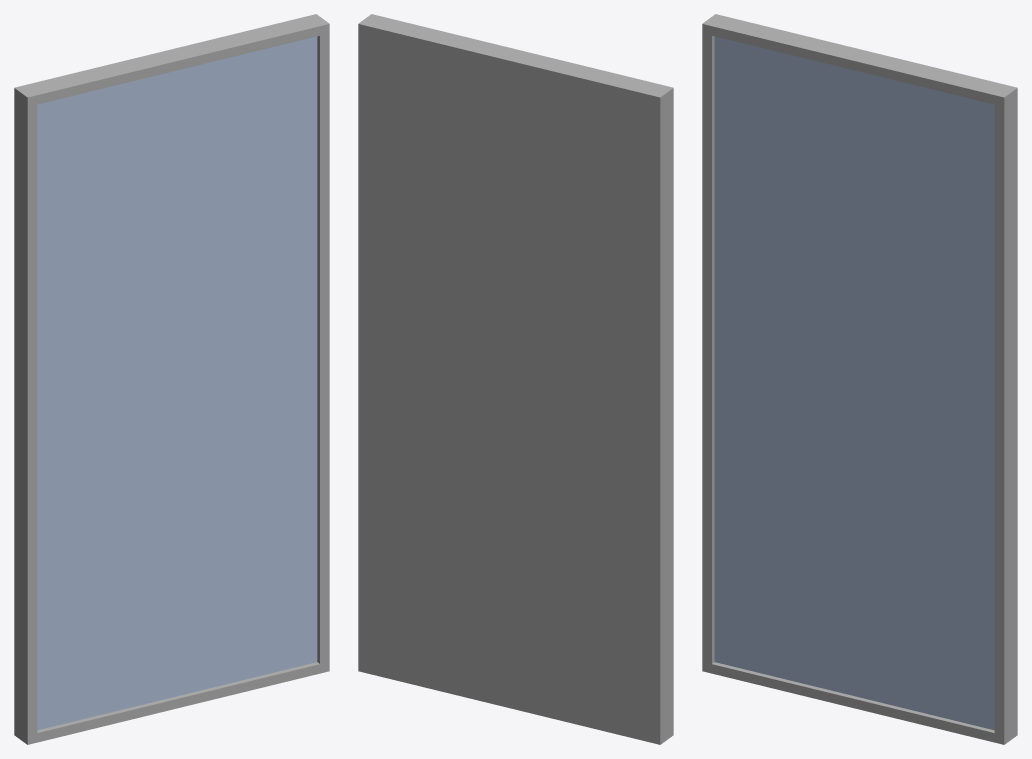
The model's file is Mirror_02_dra.glb.
3 views of the same model, side by side, from view 1: azimuth 30°, elevation 25°; view 2: azimuth 150°, elevation 25°; view 3: azimuth 330°, elevation 25° (orthographic).
Visible parts, largest first — view 1: Mirror_02; view 2: Mirror_02; view 3: Mirror_02.
Part boxes in pixels (x1,y1,x2,y2): Mirror_02: (14, 14, 329, 744); Mirror_02: (358, 14, 673, 744); Mirror_02: (702, 14, 1017, 744).
Size of the model in its own units: 0.6755 by 1.38 by 0.052.
1 material, 1 textured.
